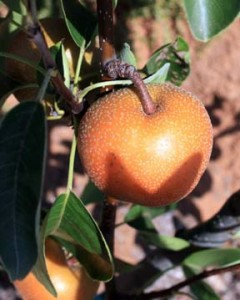pear: (78, 81, 215, 207), (8, 227, 96, 300)
